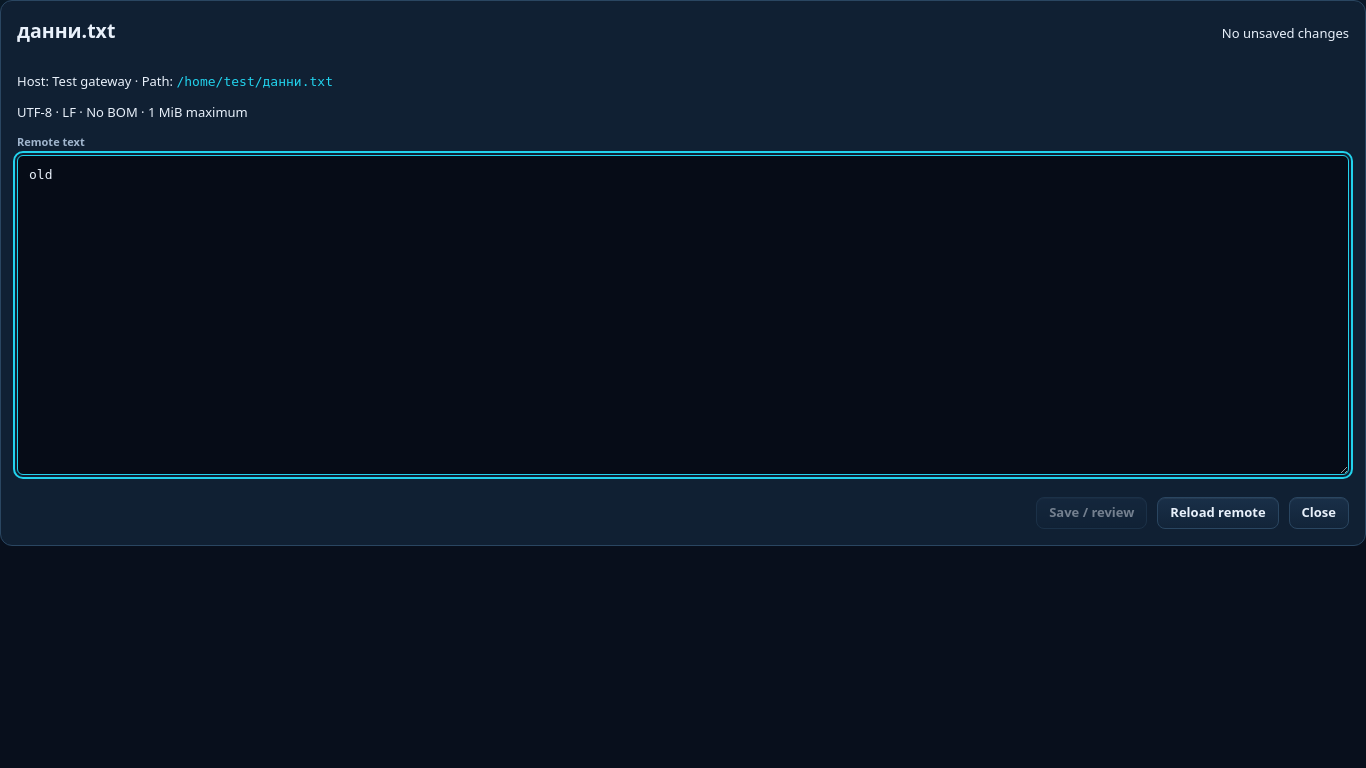
it: remote text editor authority and interaction › does not revive authority after disconnect during a delayed discard
Later steps or results of the test are not shown.
Type "A" into the text box labelled "Remote text" at (683, 315), box [17, 155, 1349, 475]
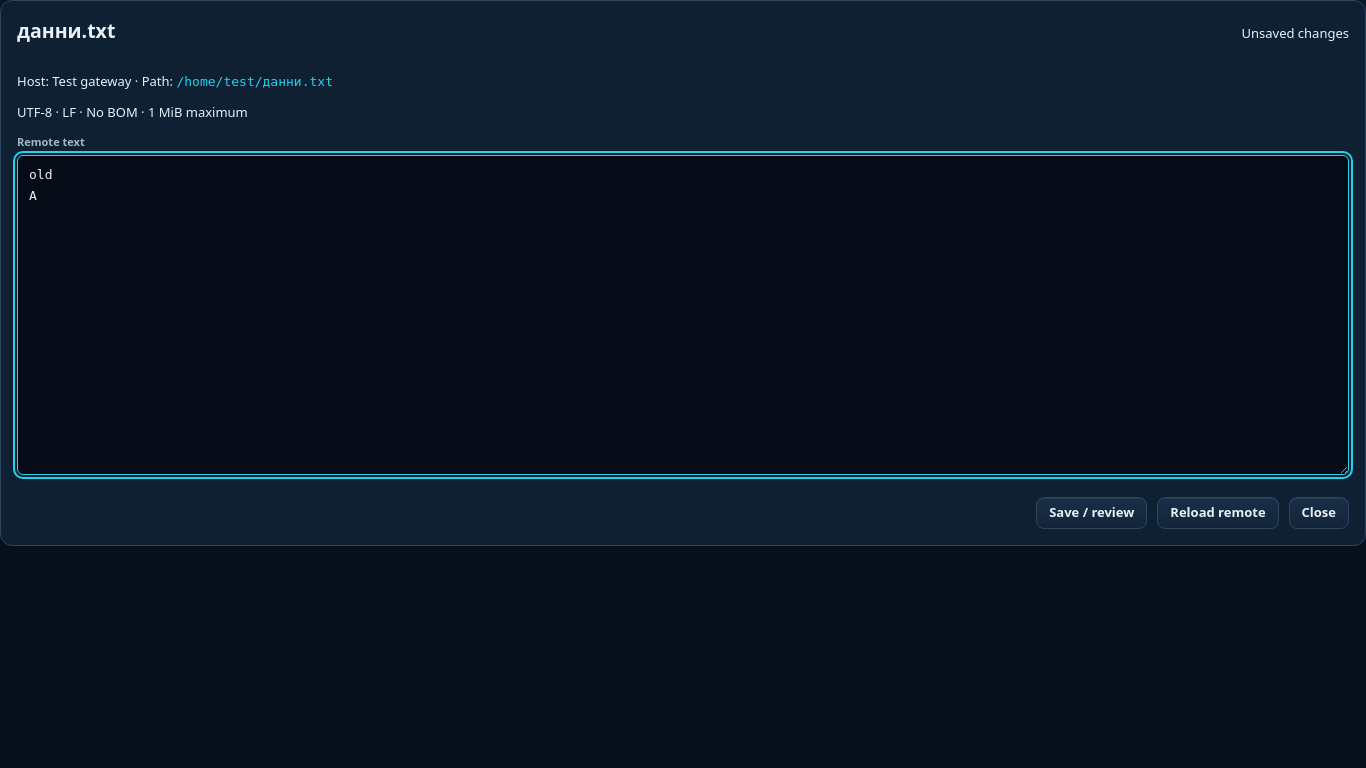
Click the button "Save / review" at (1092, 513), box [1036, 497, 1147, 529]
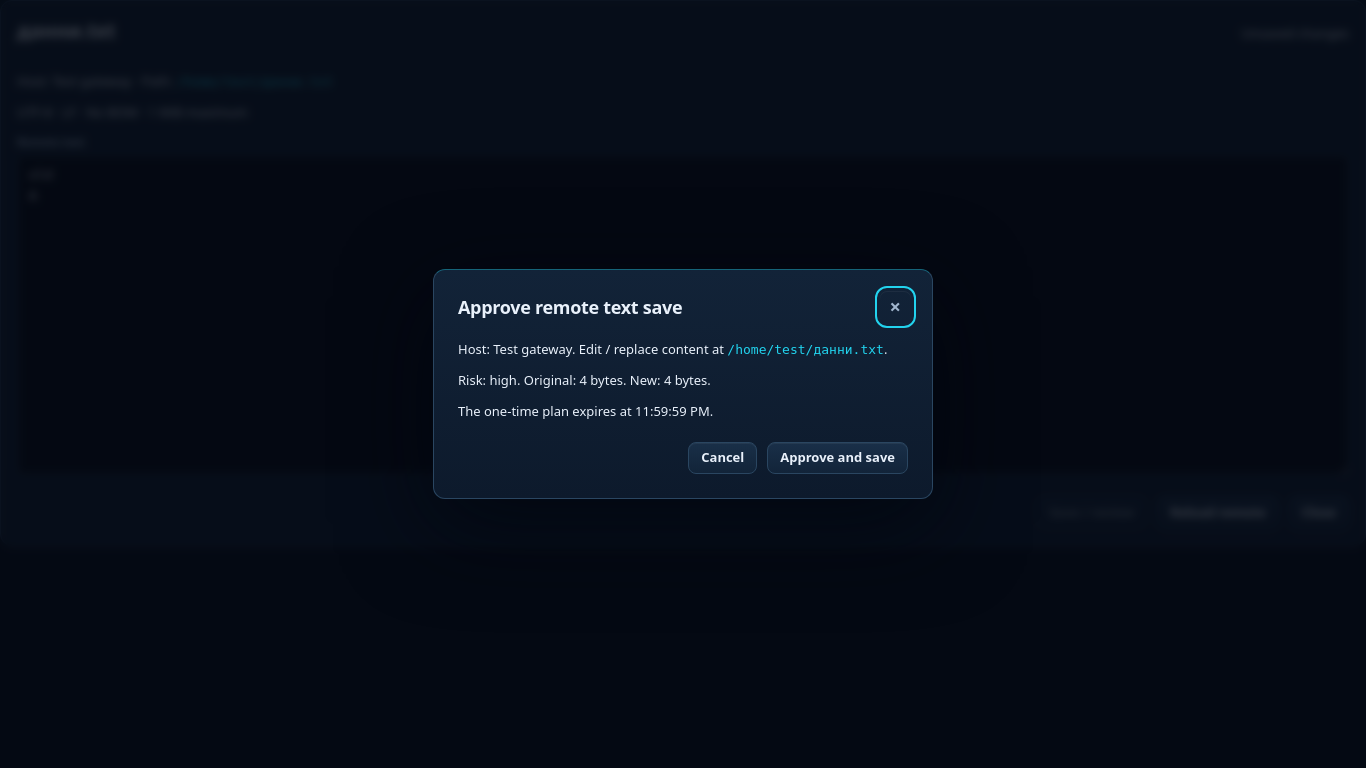
expect the dialog "Approve remote text save" is shown: met, box [433, 269, 933, 499]
